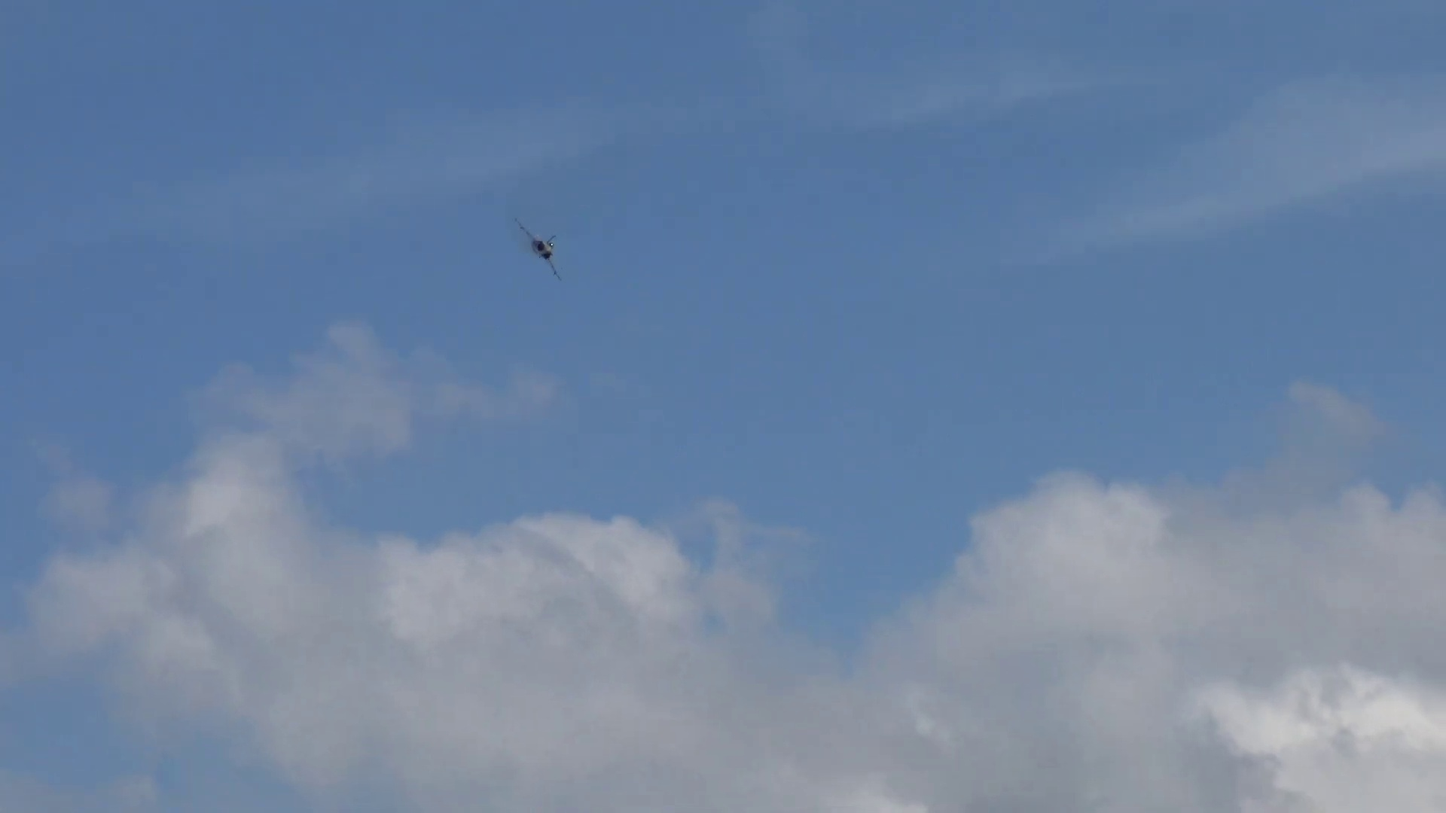Rafale: (511, 213, 566, 283)
